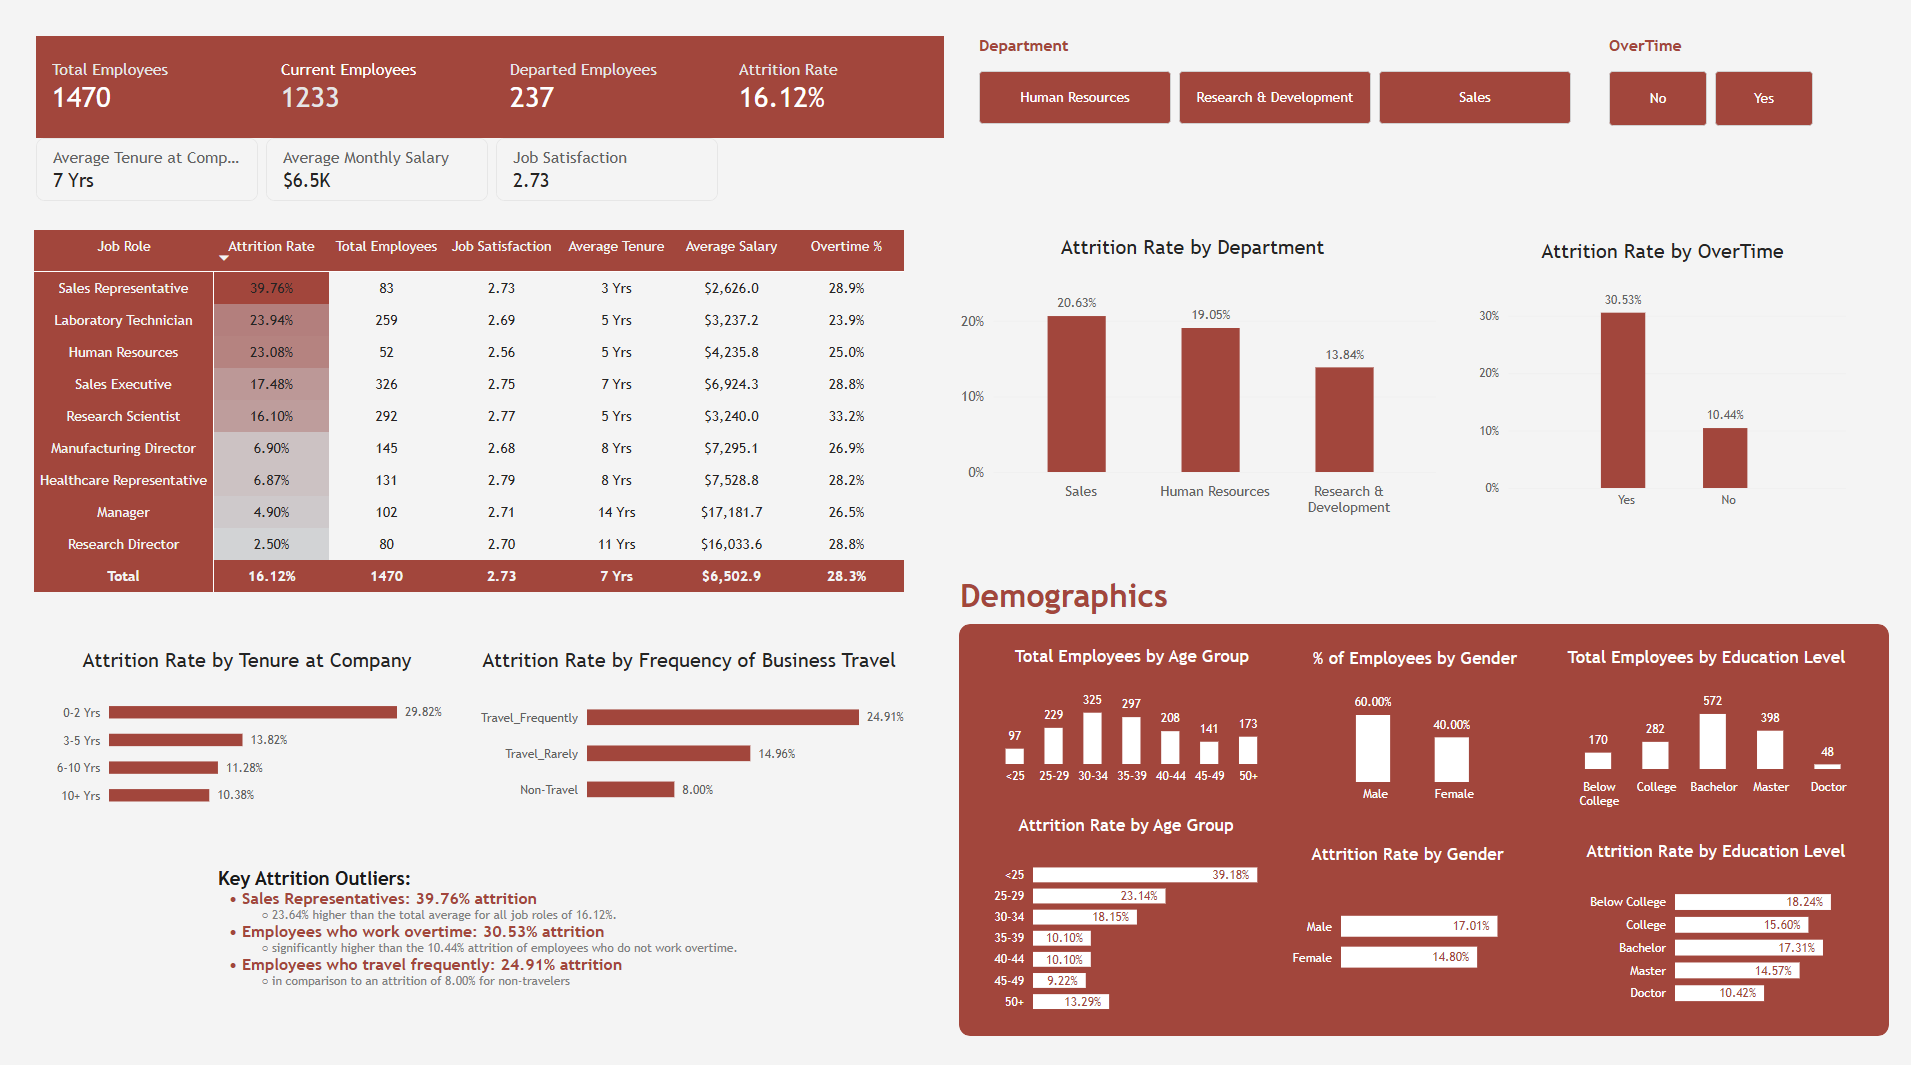

This screenshot's page, from the dashboard's own definition file:
{"tool":"powerbi","page":{"name":"Page 1","canvas":[1920,1080],"ordinal":0},"visuals":[{"type":"clusteredColumnChart","fields":{"Category":["Dim_Department.Department"],"Y":["MeasuresTable.Attrition Rate"]},"box":[935.7,227.2,519.2,312.6],"z":0},{"type":"barChart","fields":{"Category":["Fact_Employee.Tenure at Company1"],"Y":["MeasuresTable.Attrition Rate"]},"box":[39.3,640,422.1,196.3],"z":2000},{"type":"columnChart","fields":{"Category":["Fact_Employee.OverTime"],"Y":["MeasuresTable.Attrition Rate"]},"box":[1465.7,231.5,399.1,301.8],"z":3000},{"type":"cardVisual","fields":{"Data":["MeasuresTable.Total Employees","MeasuresTable.Current Employees","MeasuresTable.Departed Employees","MeasuresTable.Attrition Rate"]},"box":[39.3,42.2,908,102.1],"z":4000},{"type":"cardVisual","fields":{"Data":["MeasuresTable.Average Tenure","Avg(Fact_Employee.MonthlyIncome)","Avg(Fact_Employee.JobSatisfaction)"]},"box":[38.9,143.9,683.6,62.7],"z":5000},{"type":"group","id":"g1","title":"Demographics","box":[946.5,583,961.6,474.9],"z":6000},{"type":"pivotTable","fields":{"Rows":["Dim_JobRole.JobRole"],"Values":["MeasuresTable.Attrition Rate","MeasuresTable.Total Employees","Avg(Fact_Employee.JobSatisfaction)","MeasuresTable.Average Tenure","Avg(Fact_Employee.MonthlyIncome)","MeasuresTable.Overtime %"]},"box":[20.6,221.8,914.8,394.6],"z":7000},{"type":"advancedSlicerVisual","fields":{"Values":["Dim_Department.Department"]},"box":[982.2,42.2,591.7,87.6],"z":8000},{"type":"shape","box":[946.5,616,961.6,441.8],"z":8500,"group":"g1"},{"type":"advancedSlicerVisual","fields":{"Values":["Fact_Employee.OverTime"]},"box":[1611.7,42.2,204.4,89.8],"z":9000},{"type":"columnChart","fields":{"Category":["Fact_Employee.Age Group"],"Y":["MeasuresTable.Total Employees"]},"box":[977.9,638,315.5,171.4],"z":9000,"group":"g1"},{"type":"textbox","box":[964,583,271.7,43.3],"z":9250,"group":"g1"},{"type":"clusteredColumnChart","fields":{"Category":["Fact_Employee.Gender"],"Y":["MeasuresTable.Total Employees"]},"box":[1273,639.8,291.9,187.7],"z":9375,"group":"g1"},{"type":"barChart","fields":{"Category":["Fact_Employee.Age Group"],"Y":["MeasuresTable.Attrition Rate"]},"box":[977.9,807.4,303.8,232.9],"z":9500,"group":"g1"},{"type":"columnChart","title":"Total Employees by Education Level","fields":{"Category":["Fact_Employee.Education Level"],"Y":["MeasuresTable.Total Employees"]},"box":[1534.4,639.2,351.5,193.6],"z":10000,"group":"g1"},{"type":"clusteredBarChart","fields":{"Category":["Fact_Employee.BusinessTravel"],"Y":["MeasuresTable.Attrition Rate"]},"box":[461.3,640,461.3,196.3],"z":10000},{"type":"barChart","title":"Attrition Rate by Education Level","fields":{"Category":["Fact_Employee.Education Level"],"Y":["MeasuresTable.Attrition Rate"]},"box":[1573.7,832.9,292.2,200.5],"z":10250,"group":"g1"},{"type":"barChart","fields":{"Category":["Fact_Employee.Gender"],"Y":["MeasuresTable.Attrition Rate"]},"box":[1277.4,836.1,267.4,182.8],"z":10500,"group":"g1"},{"type":"textbox","box":[220.9,872.6,545.8,146.3],"z":11000}]}

Visuals, with their boxes in screenshot pixels (x1, y1, x2, y2), scaled from the page's 1920x1080 canvas onto the 1911x1065 screenshot:
clusteredColumnChart - Dim_Department.Department x MeasuresTable.Attrition Rate: left=931, top=224, right=1448, bottom=532
barChart - Fact_Employee.Tenure at Company1 x MeasuresTable.Attrition Rate: left=39, top=631, right=459, bottom=825
columnChart - Fact_Employee.OverTime x MeasuresTable.Attrition Rate: left=1459, top=228, right=1856, bottom=526
cardVisual - MeasuresTable.Total Employees x MeasuresTable.Current Employees: left=39, top=42, right=943, bottom=142
cardVisual - MeasuresTable.Average Tenure x Avg(Fact_Employee.MonthlyIncome): left=39, top=142, right=719, bottom=204
"Demographics" group: left=942, top=575, right=1899, bottom=1043
pivotTable - Dim_JobRole.JobRole x MeasuresTable.Attrition Rate: left=21, top=219, right=931, bottom=608
advancedSlicerVisual - Dim_Department.Department: left=978, top=42, right=1567, bottom=128
shape: left=942, top=607, right=1899, bottom=1043
advancedSlicerVisual - Fact_Employee.OverTime: left=1604, top=42, right=1808, bottom=130
columnChart - Fact_Employee.Age Group x MeasuresTable.Total Employees: left=973, top=629, right=1287, bottom=798
textbox: left=959, top=575, right=1230, bottom=618
clusteredColumnChart - Fact_Employee.Gender x MeasuresTable.Total Employees: left=1267, top=631, right=1558, bottom=816
barChart - Fact_Employee.Age Group x MeasuresTable.Attrition Rate: left=973, top=796, right=1276, bottom=1026
"Total Employees by Education Level" columnChart: left=1527, top=630, right=1877, bottom=821
clusteredBarChart - Fact_Employee.BusinessTravel x MeasuresTable.Attrition Rate: left=459, top=631, right=918, bottom=825
"Attrition Rate by Education Level" barChart: left=1566, top=821, right=1857, bottom=1019
barChart - Fact_Employee.Gender x MeasuresTable.Attrition Rate: left=1271, top=824, right=1538, bottom=1005
textbox: left=220, top=860, right=763, bottom=1005
